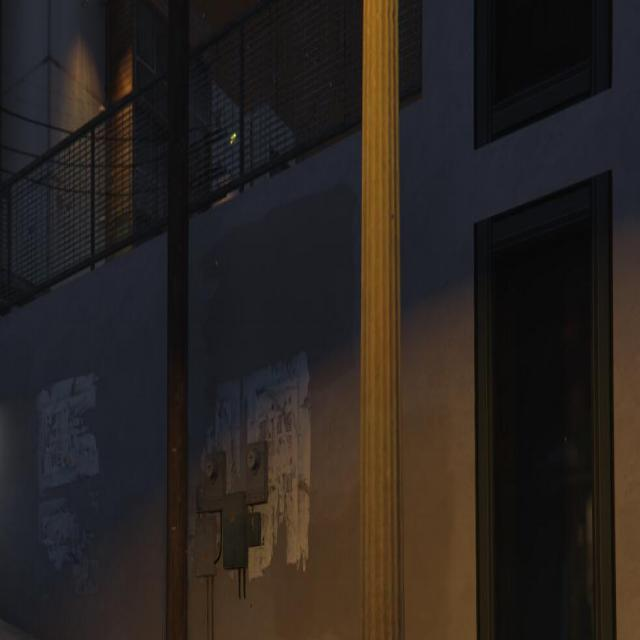pole: (348, 3, 417, 639), (151, 4, 201, 636)
